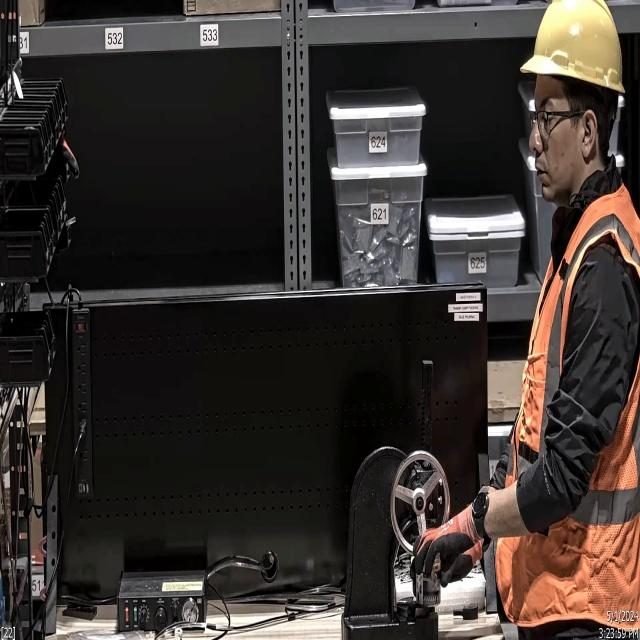construction-gloves: (410, 496, 478, 598)
